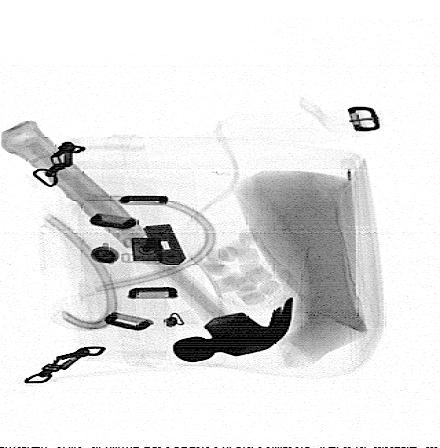Hammer: (0, 120, 296, 363)
